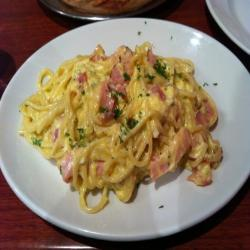carbonara: (19, 41, 233, 214)
